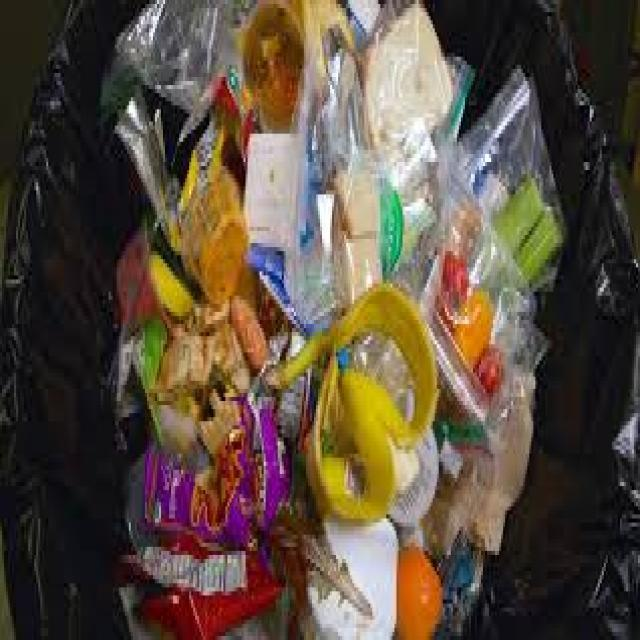trashbin: (3, 0, 636, 638)
